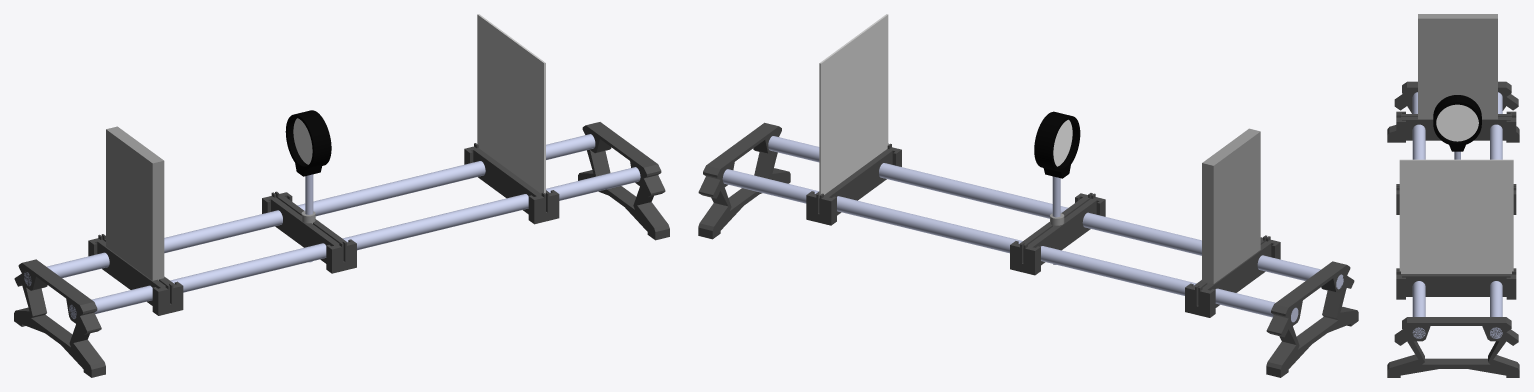
Rendered from 凸透镜.fbx.
3 views of the same model, side by side, from view 1: azimuth 30°, elevation 25°; view 2: azimuth 150°, elevation 25°; view 3: azimuth 270°, elevation 25° (orthographic). The views are drawn at different scales.
Parts seen in each view (by area): view 1: 凸透镜 (×11); view 2: 凸透镜 (×11); view 3: 凸透镜 (×11).
Part boxes in pixels (box(x1,y1,x2,y2)): 凸透镜 (×11): box(14, 14, 669, 377); 凸透镜 (×11): box(698, 14, 1358, 377); 凸透镜 (×11): box(1387, 14, 1519, 377).
Size of the model in its own units: 1000 by 326 by 232.
